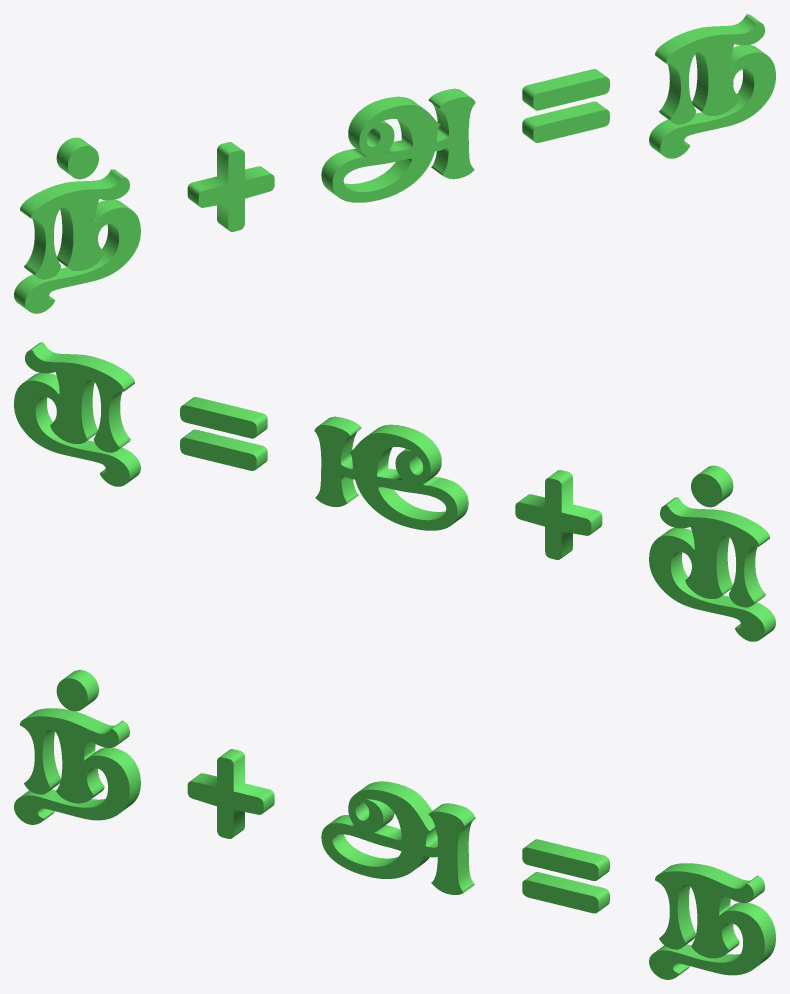
The picture shows the model from 3 angles, top to bottom: view 1: azimuth 30°, elevation 25°; view 2: azimuth 150°, elevation 25°; view 3: azimuth 330°, elevation 25°; orthographic projection.
Visible parts, largest first — view 1: na; view 2: na; view 3: na.
Part boxes in pixels (left/top/right/bottom): na: left=14, top=14, right=775, bottom=313; na: left=14, top=342, right=775, bottom=641; na: left=14, top=670, right=775, bottom=979.
Bounding box in the file's own units: 0.1678 × 0.0334 × 0.00431.
